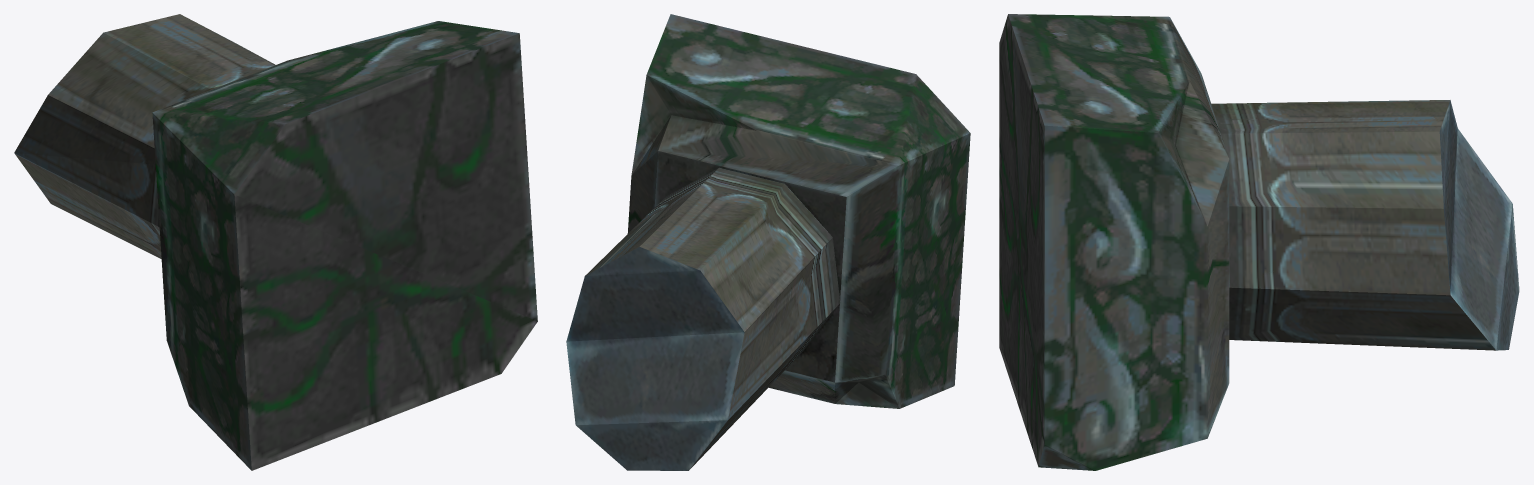
The model's file is stemple_pillar_08.fbx.
3 views of the same model, side by side, from view 1: azimuth 30°, elevation 25°; view 2: azimuth 150°, elevation 25°; view 3: azimuth 270°, elevation 25° (orthographic). The views are drawn at different scales.
Visible parts, largest first — view 1: obj0.189; view 2: obj0.189; view 3: obj0.189.
Part boxes in pixels (box(x1,y1,x2,y2)): obj0.189: box(14, 14, 537, 470); obj0.189: box(566, 14, 970, 470); obj0.189: box(999, 14, 1519, 470).
Size of the model in its own units: 2.32 by 2.39 by 3.03.
